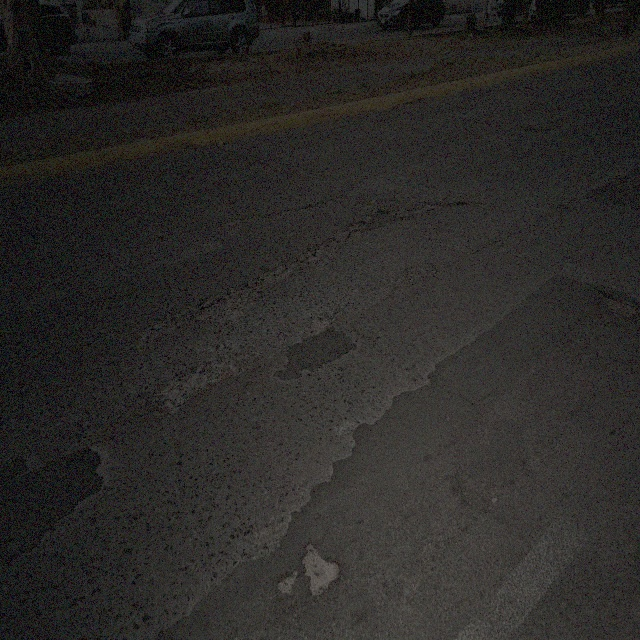pothole: (161, 342, 245, 417), (194, 274, 262, 327), (300, 538, 340, 603), (301, 231, 349, 268), (597, 286, 638, 320), (275, 566, 298, 602)
